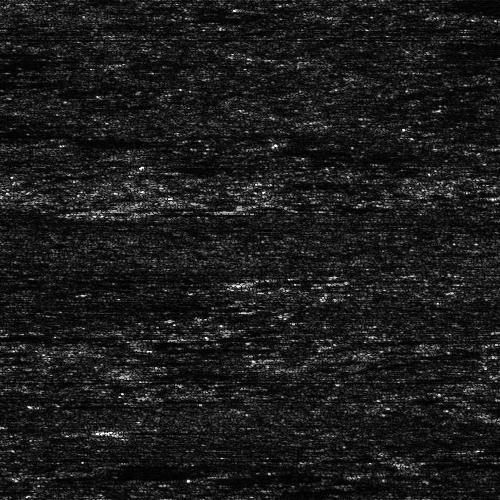rock: (71, 425, 164, 436), (405, 44, 458, 55), (216, 468, 257, 479), (400, 456, 441, 465)
shadow: (237, 468, 366, 479), (118, 425, 242, 436), (432, 44, 500, 55), (421, 456, 500, 465)
